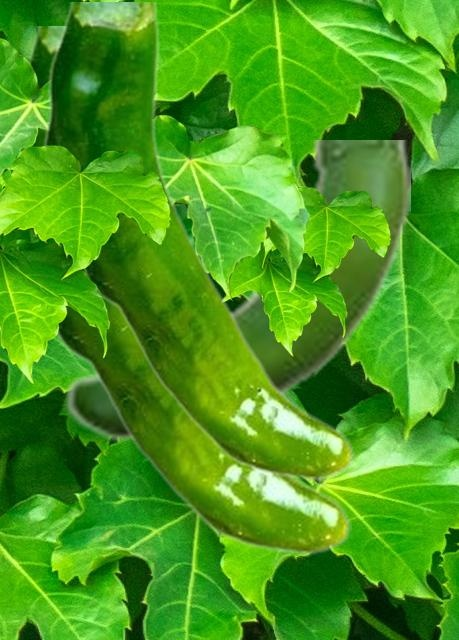green_chili: (7, 26, 350, 555), (43, 2, 353, 480), (63, 140, 409, 444)
